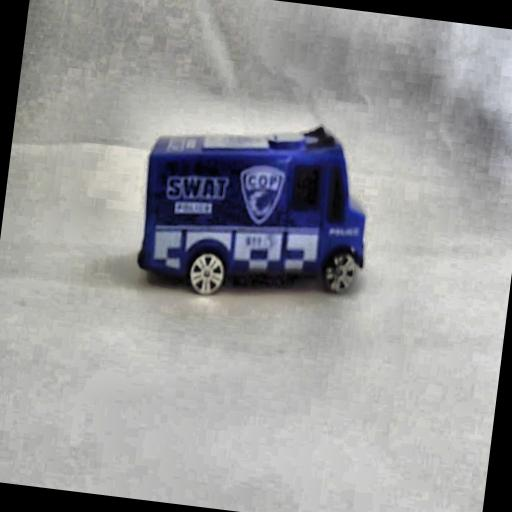police car: (130, 97, 381, 316)
